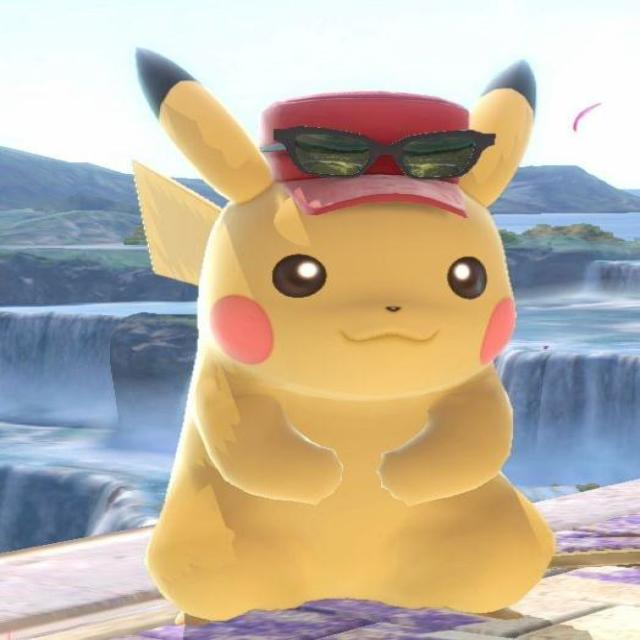pikachu: (134, 46, 554, 621)
